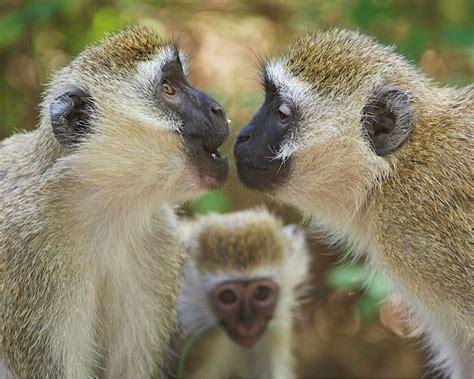monkey: (235, 33, 474, 379), (1, 25, 227, 376), (183, 210, 302, 379)
